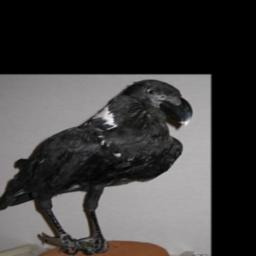Crow: (0, 79, 196, 256)
